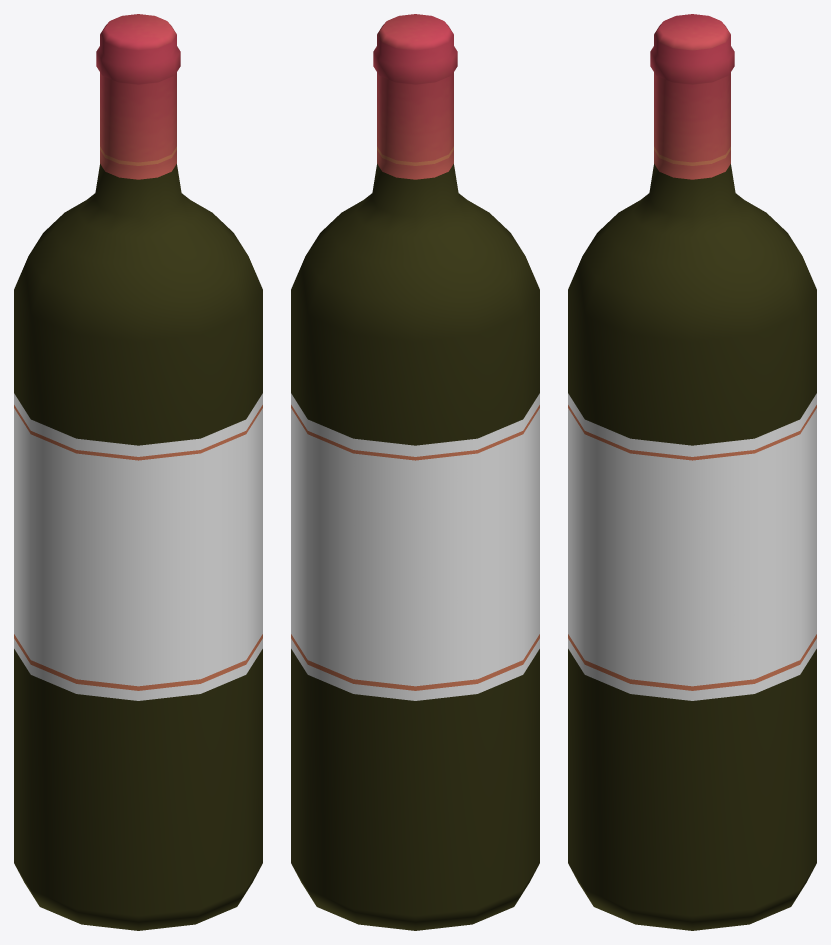
Rendered from bottle3.fbx.
3 views of the same model, side by side, from view 1: azimuth 30°, elevation 25°; view 2: azimuth 150°, elevation 25°; view 3: azimuth 270°, elevation 25° (orthographic).
Parts seen in each view (by area): view 1: bottle3; view 2: bottle3; view 3: bottle3.
Boxes of the visible parts, <box> form: bottle3: <box>14,14,262,930</box>; bottle3: <box>291,14,539,930</box>; bottle3: <box>568,14,816,930</box>.
Bounding box in the file's own units: 7.77 × 29.45 × 7.77.
